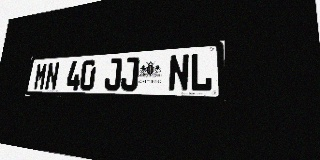0: (79, 59, 96, 91)
4: (66, 60, 82, 90)
J: (120, 57, 139, 91), (104, 58, 122, 91)
L: (190, 52, 212, 92)
M: (33, 63, 48, 90)
N: (168, 53, 190, 92), (44, 62, 60, 90)
